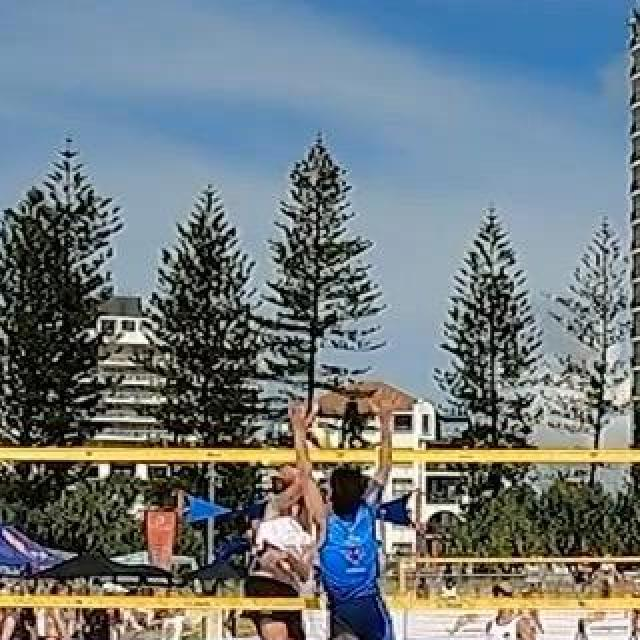volleyball: (295, 428, 329, 462)
